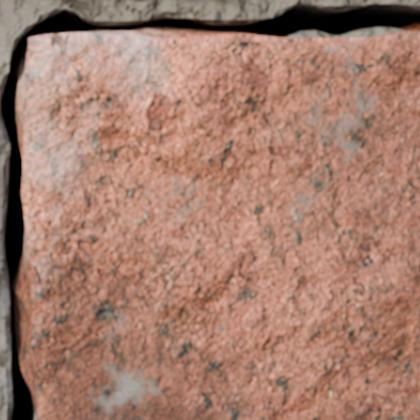brick: (17, 32, 419, 419)
crack: (0, 1, 419, 419)
